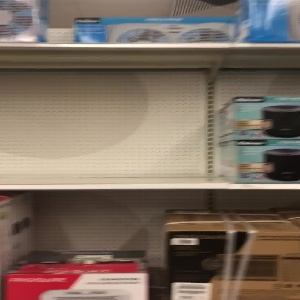void: (1, 49, 217, 189)
